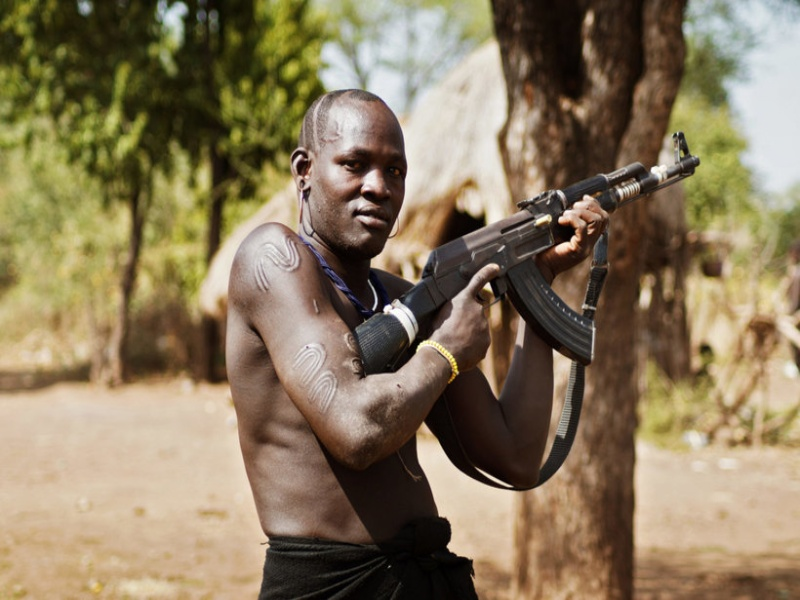person: (223, 89, 608, 600)
weapon: (354, 132, 700, 374)
